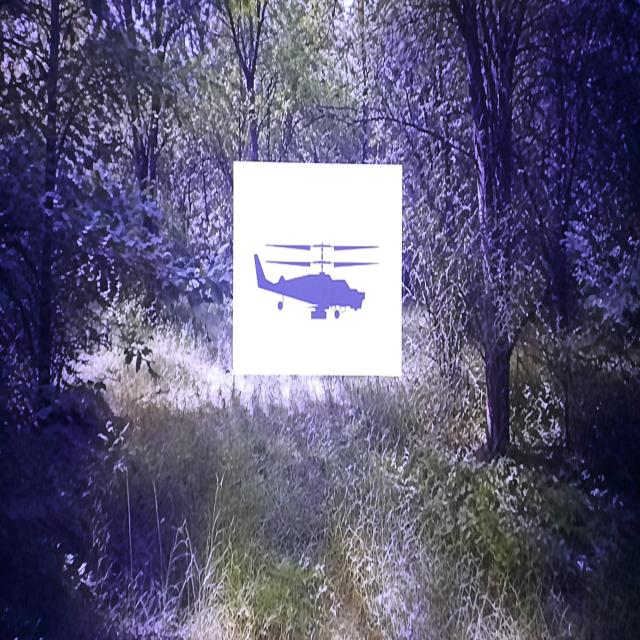Ka-52 Enemy: (255, 245, 377, 318)
